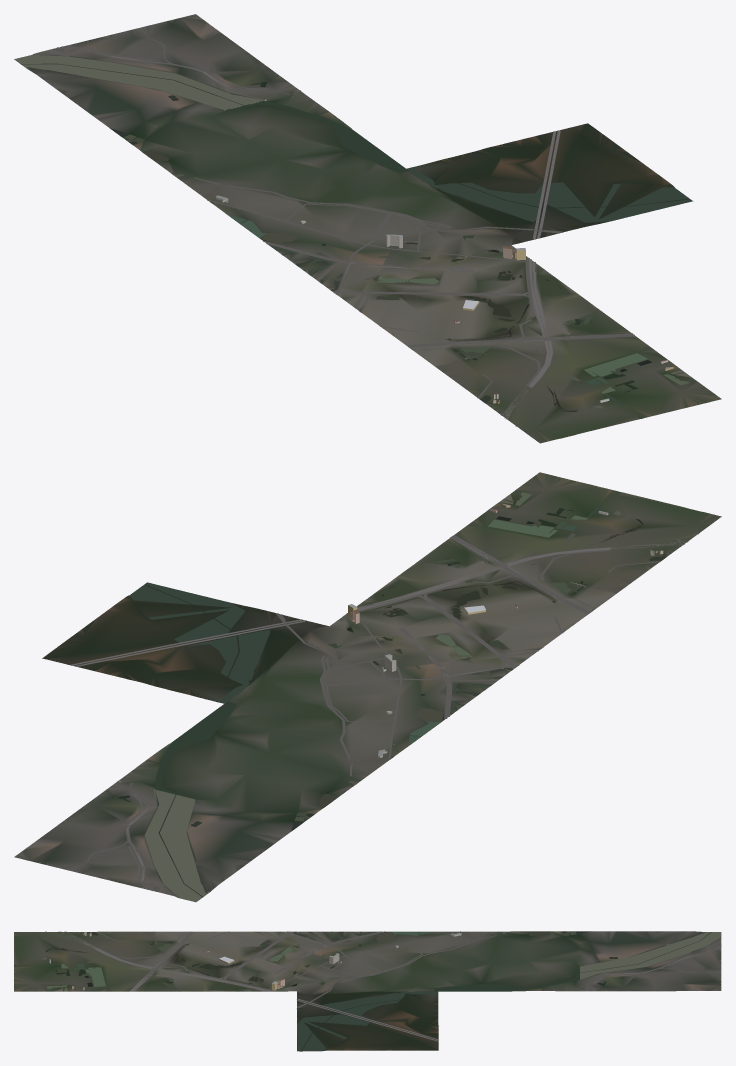
The picture shows the model from 3 angles, top to bottom: view 1: azimuth 30°, elevation 25°; view 2: azimuth 150°, elevation 25°; view 3: azimuth 270°, elevation 25°; orthographic projection. The views are drawn at different scales.
Visible parts, largest first — view 1: ground, water, roads, buildings; view 2: ground, water, roads, buildings; view 3: ground, water, roads, buildings.
Part boxes in pixels (x1,y1,x2,y2): ground: (14,14,721,443); water: (14,55,695,411); roads: (56,27,635,426); buildings: (215,195,673,403); ground: (14,472,721,902); water: (118,491,665,901); roads: (68,533,699,890); buildings: (348,503,663,757); ground: (14,931,721,1051); water: (38,931,720,1051); roads: (45,931,721,1041); buildings: (49,932,461,990).
Bounding box in the file's own units: 2810 × 83.95 × 7017.
